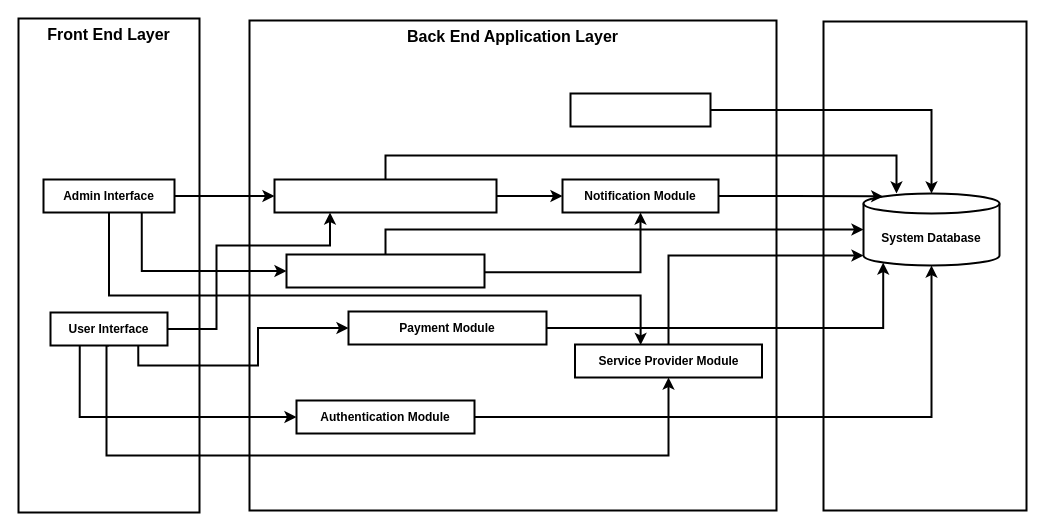
The diagram is 1044 pixels wide and 530 high, and some of its shapes have lost their labels. The shapes that lost their labels are listed below. From the top down, each one's box as (x1, y1, x2, y2) in pixels, then its label:
(569, 92, 711, 127): Reporting Module
(273, 178, 497, 213): Booking Management Module
(285, 253, 485, 288): User Management Module
(822, 20, 1027, 511): Data and Content Layer
